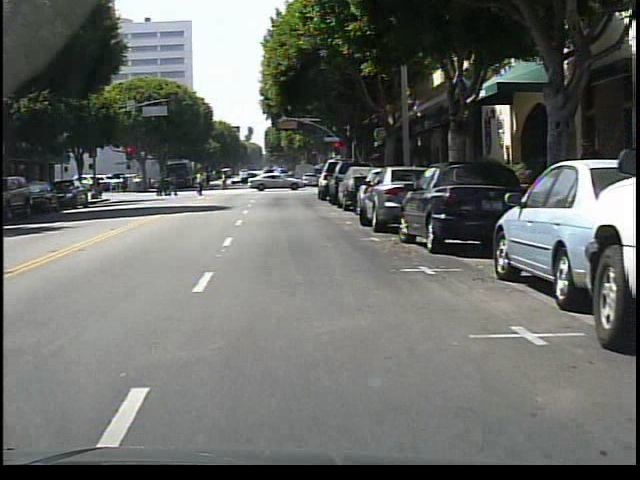person: (190, 169, 210, 198)
